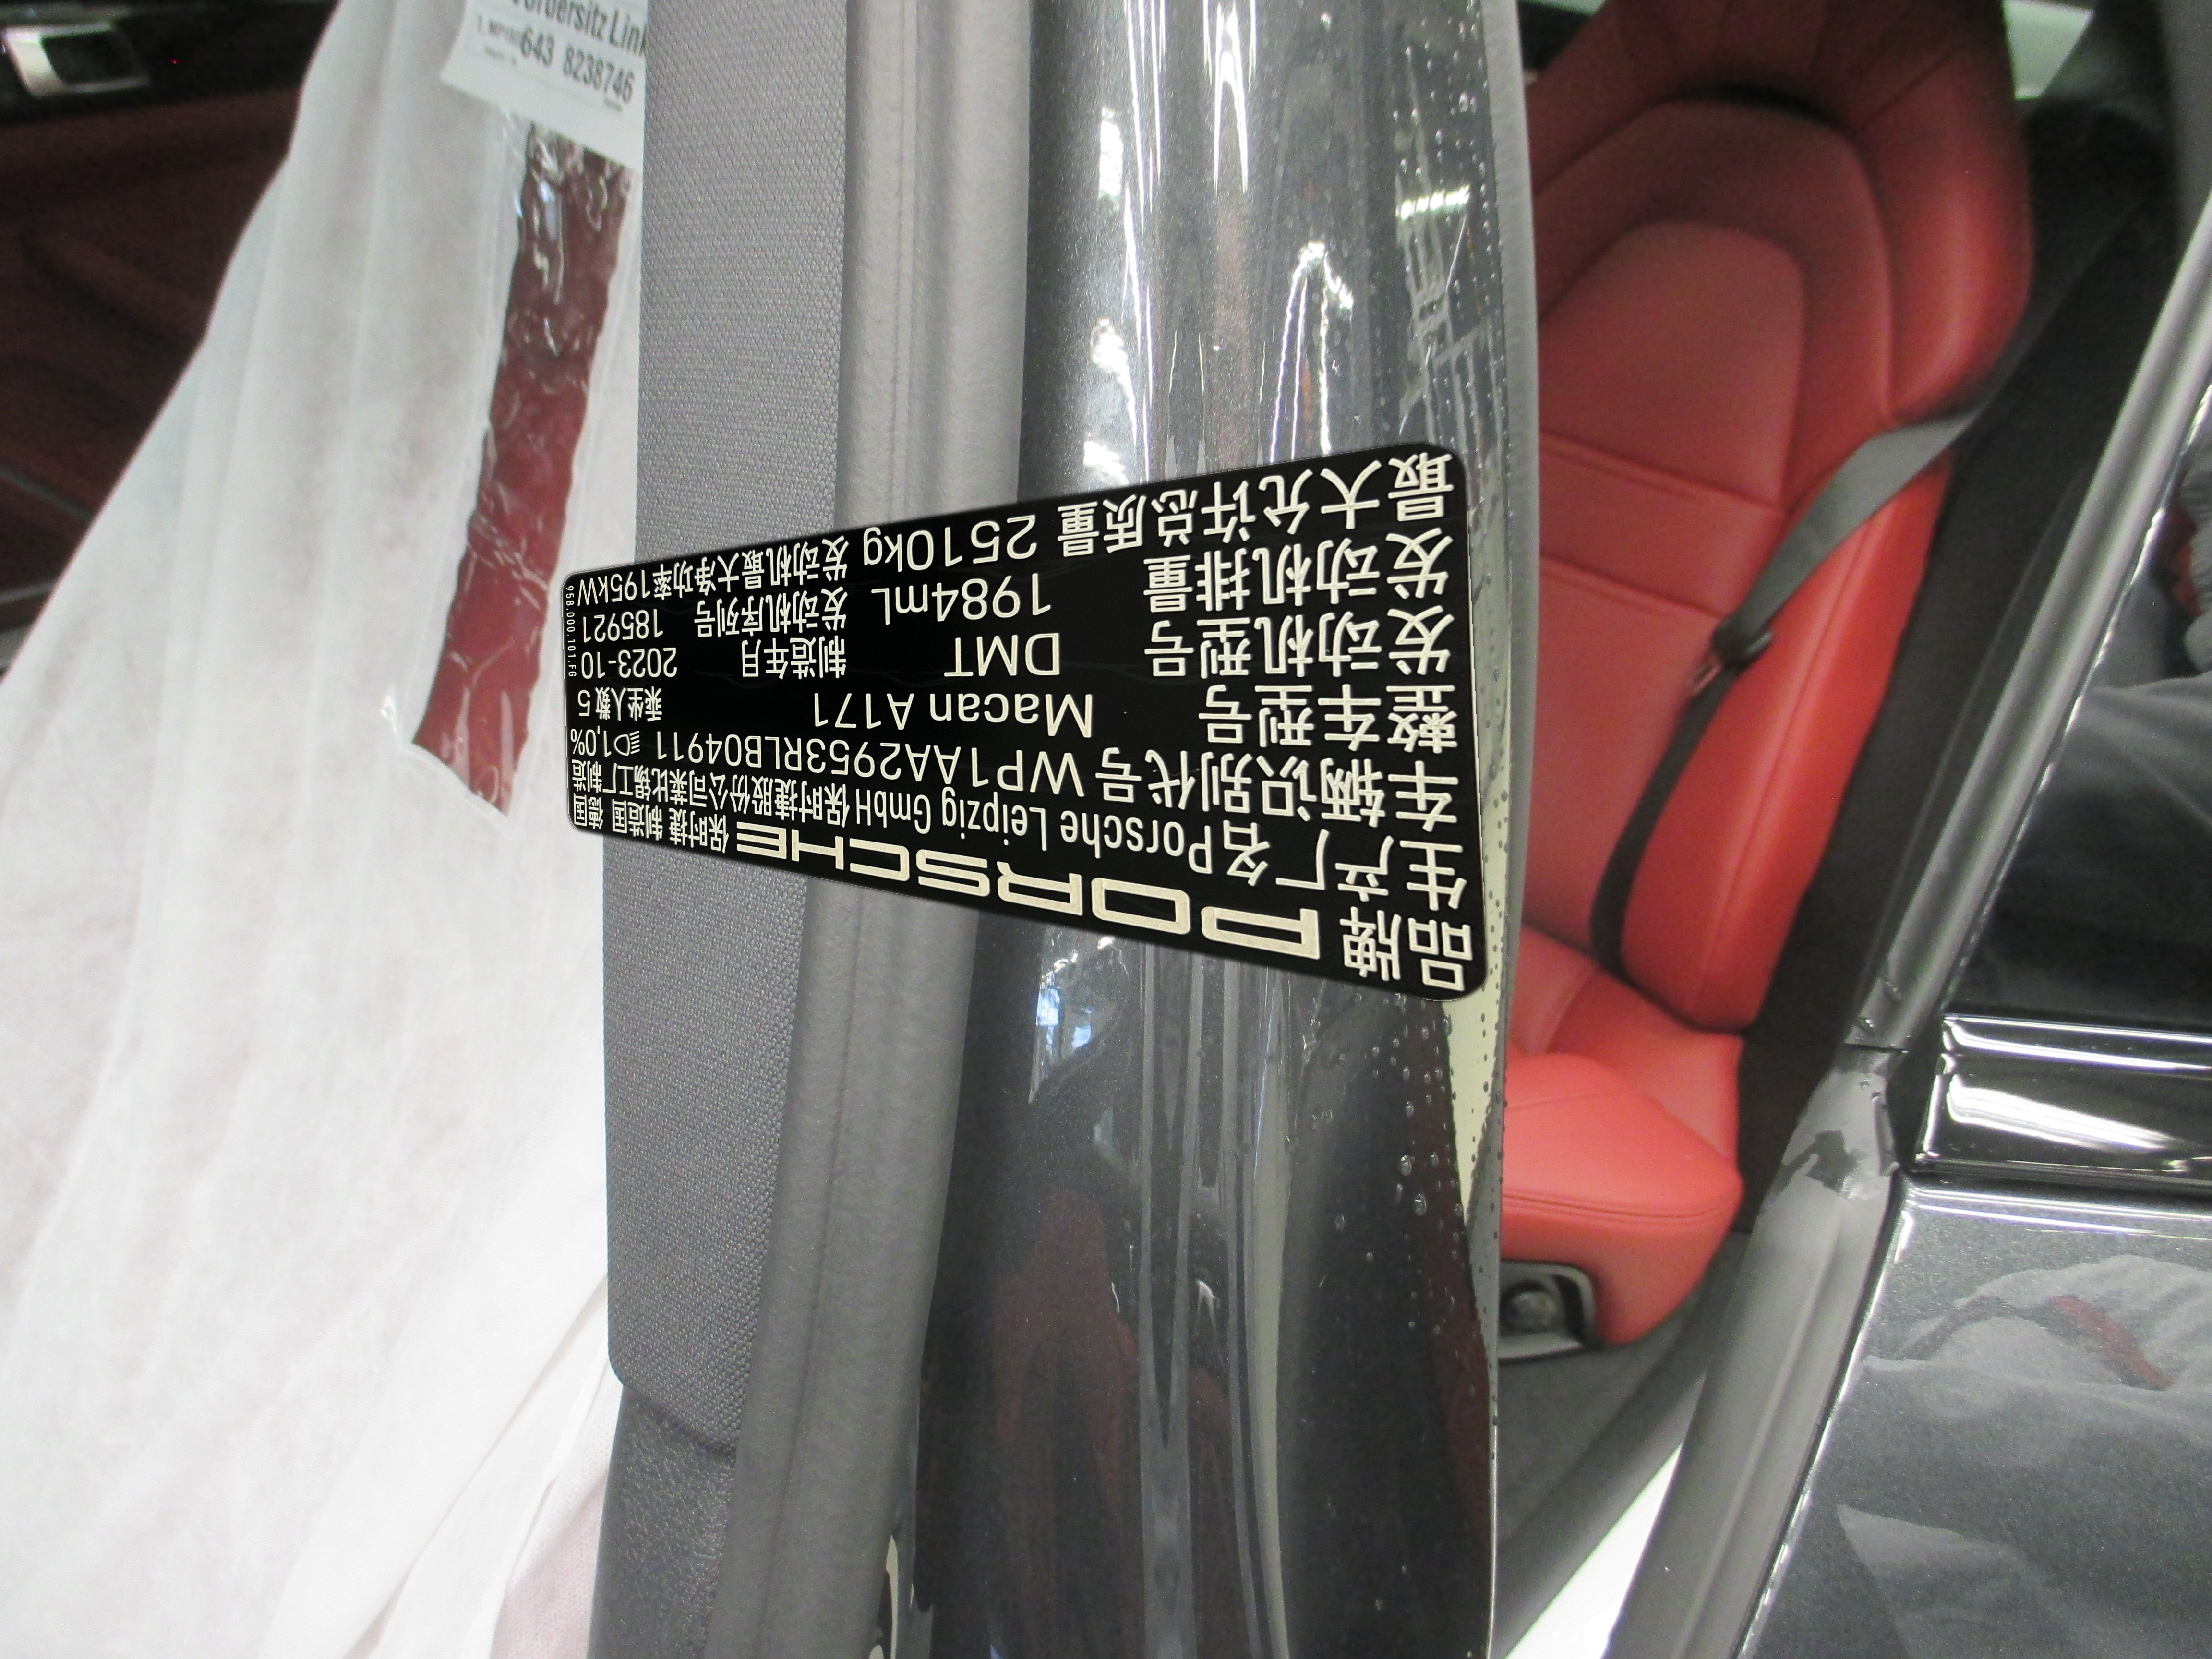Typlabel-China: (561, 443, 1487, 1000)
